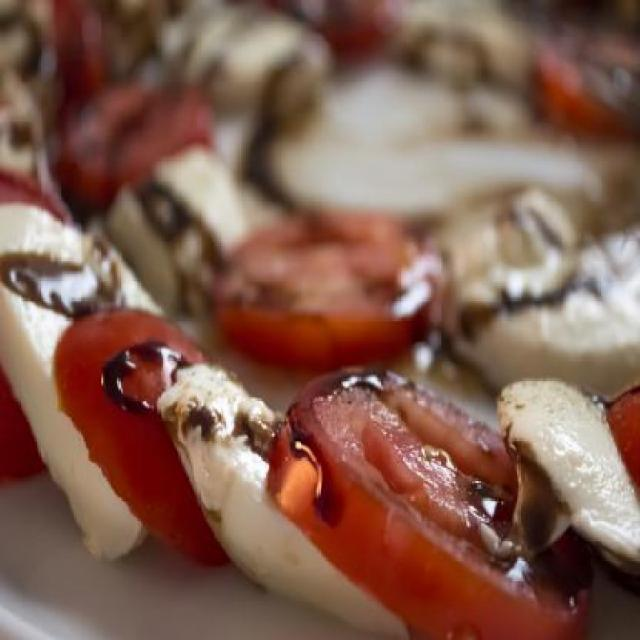Cheese: (154, 359, 412, 639), (0, 200, 157, 566), (451, 219, 640, 410), (492, 374, 638, 582)
